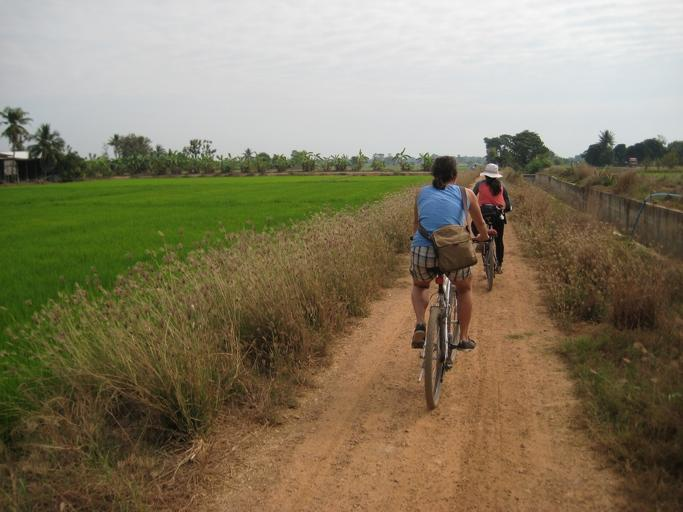non-vehicle: (403, 231, 492, 410), (466, 203, 510, 292)
